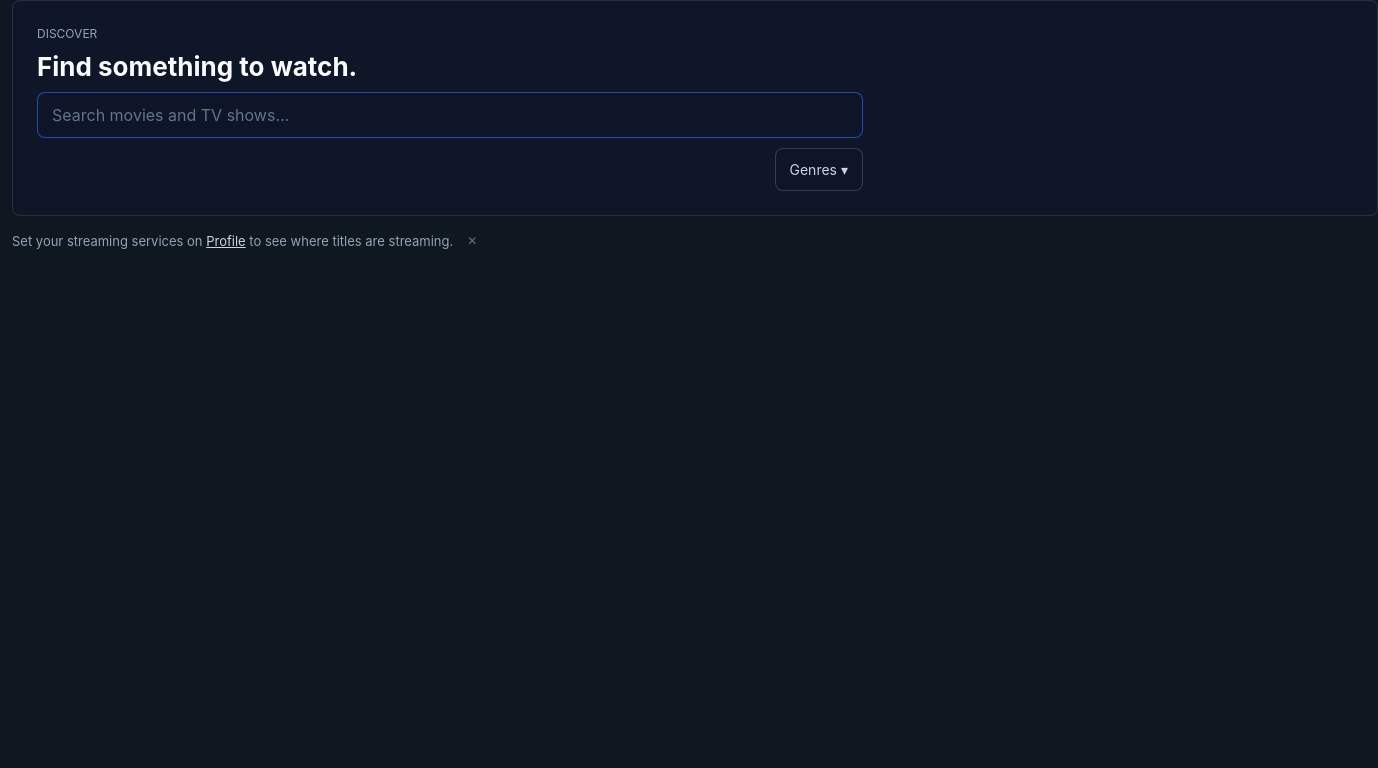
Test: DiscoverPage genre browse (#384) › issues one browse request on Apply, not one per checkbox
The image size is (1378, 768).
Click the button "Genres ▾" at (819, 169), box [774, 148, 863, 191]
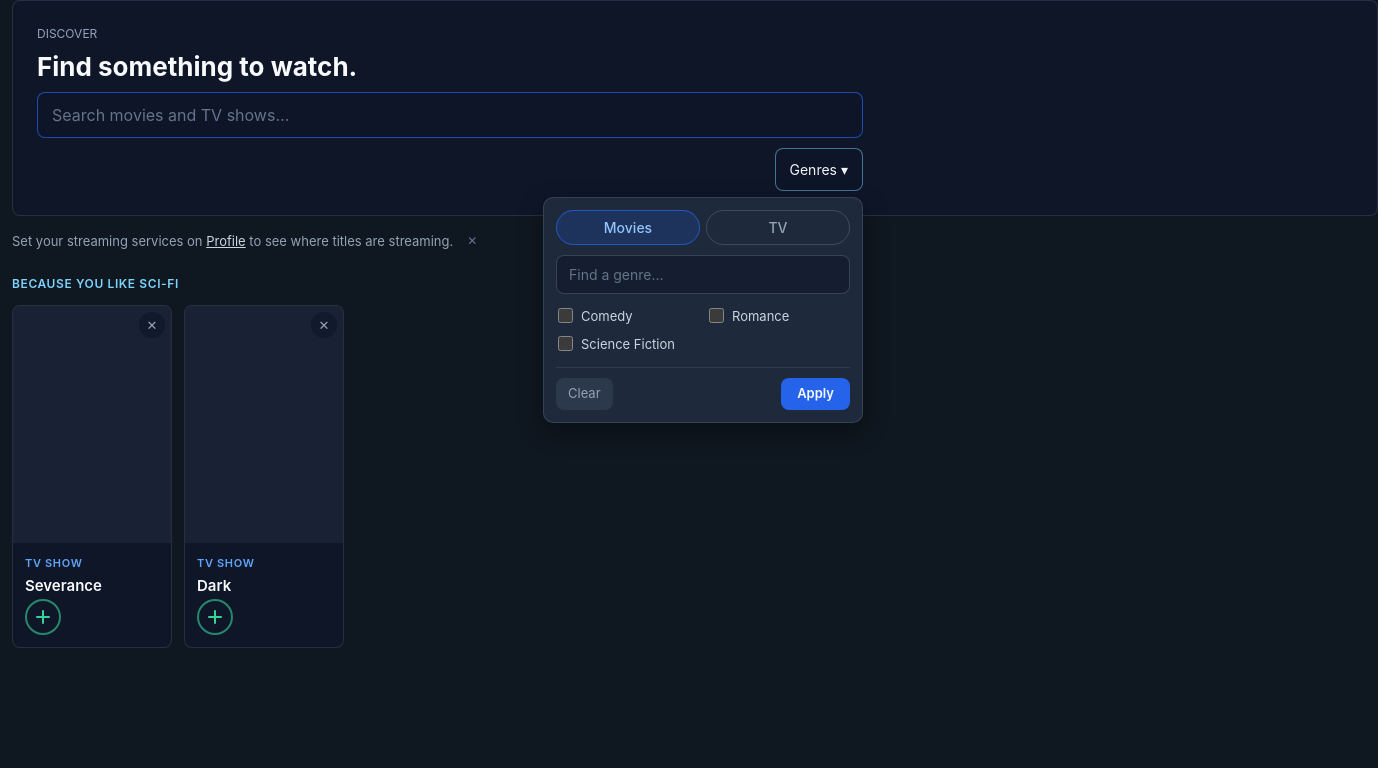
Click the checkbox labelled "Comedy" at (566, 315), box [558, 308, 573, 323]
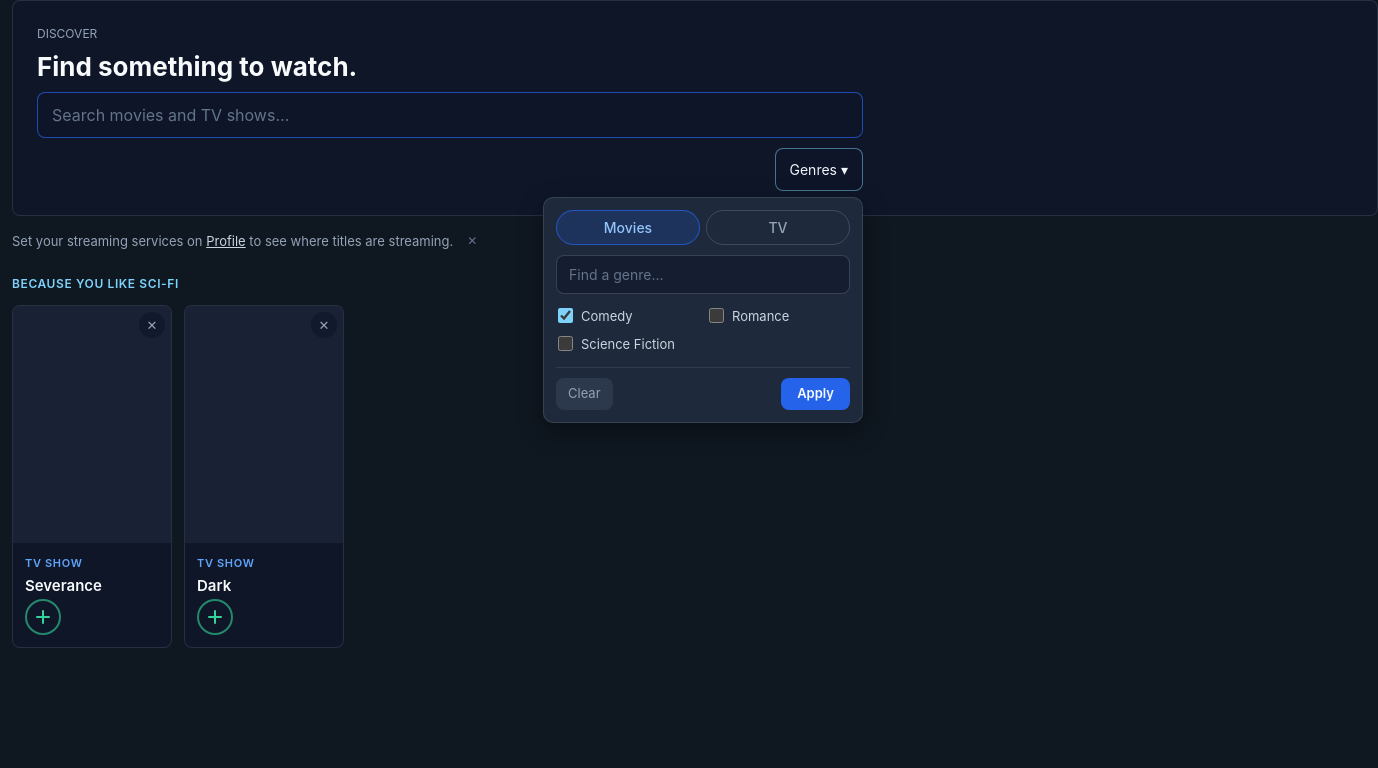
Click the checkbox labelled "Romance" at (716, 315), box [709, 308, 724, 323]
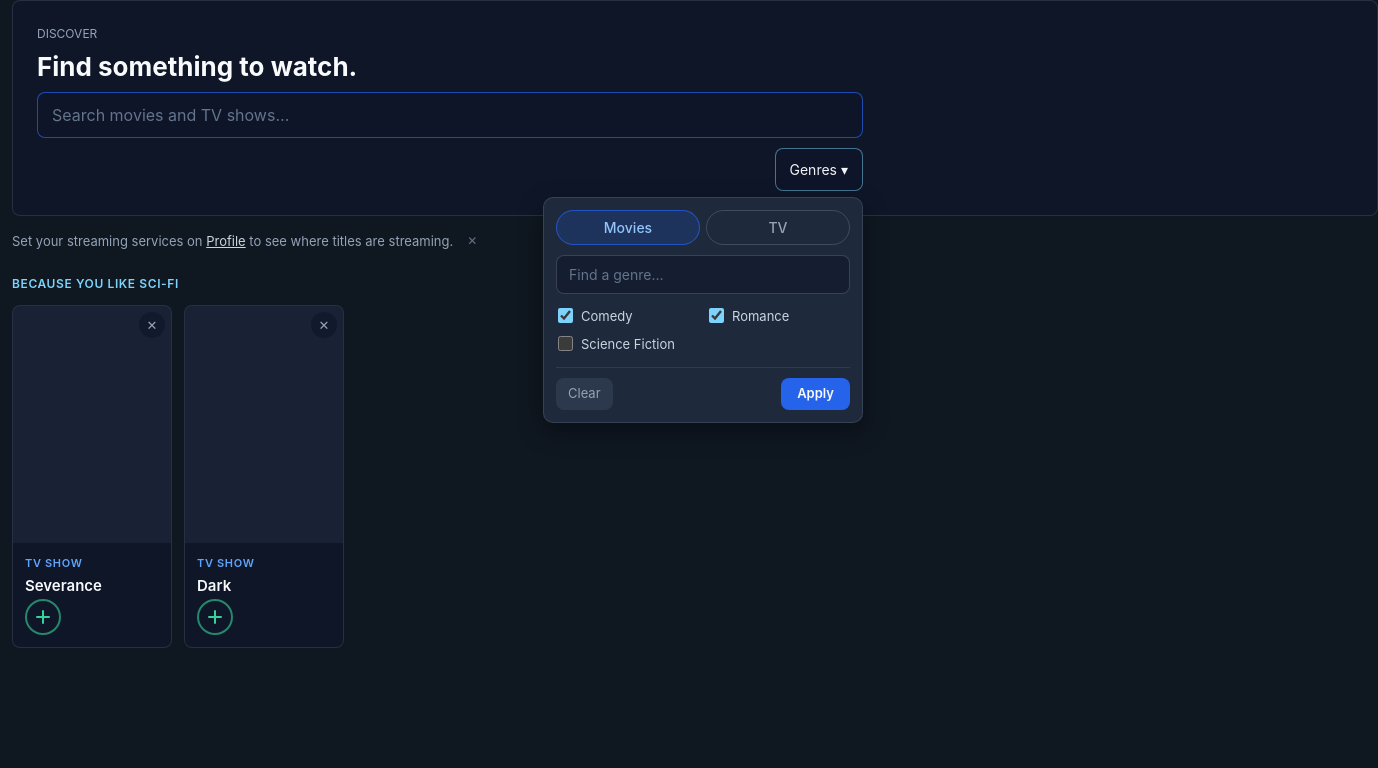
Click the button "Apply" at (816, 394), box [781, 378, 850, 410]
(page scrolled)
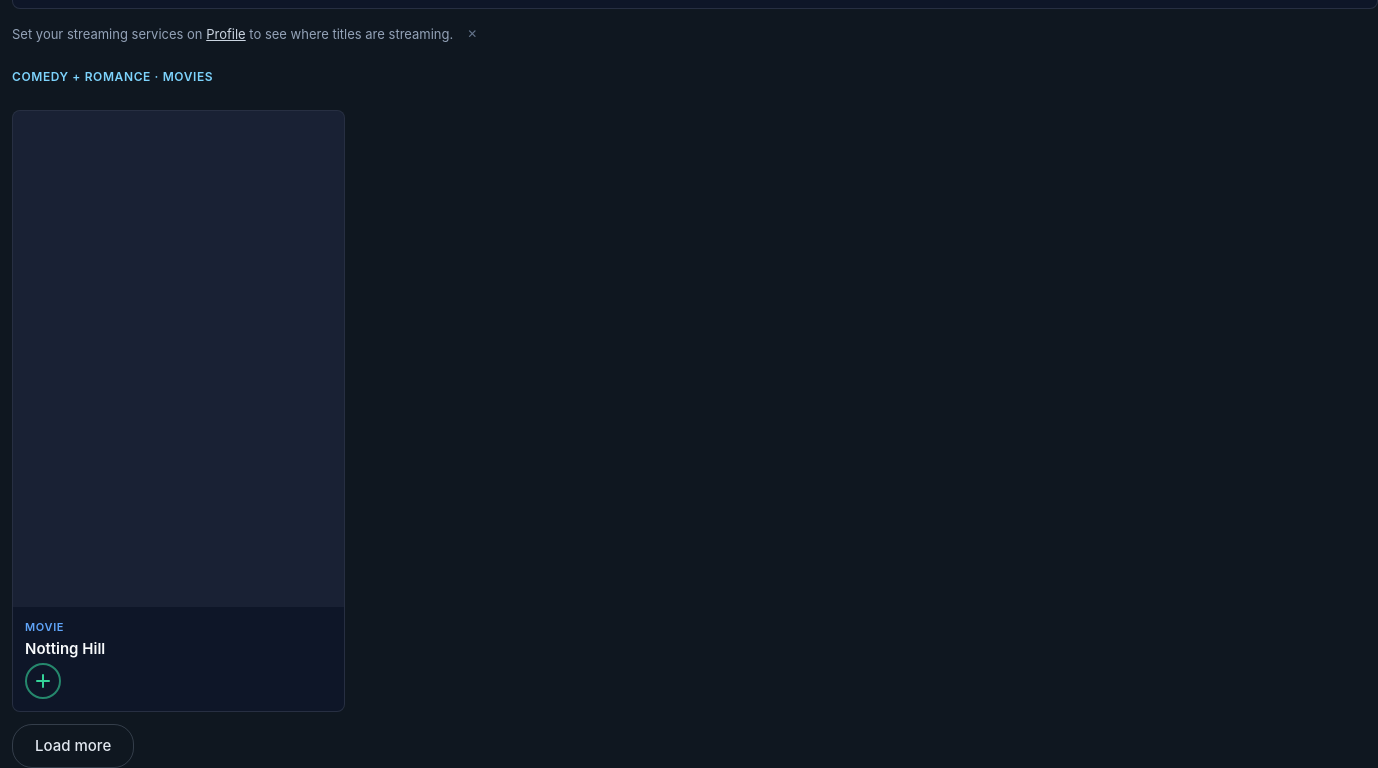
Expected: the text "Notting Hill" is shown, [25, 639, 105, 658]
